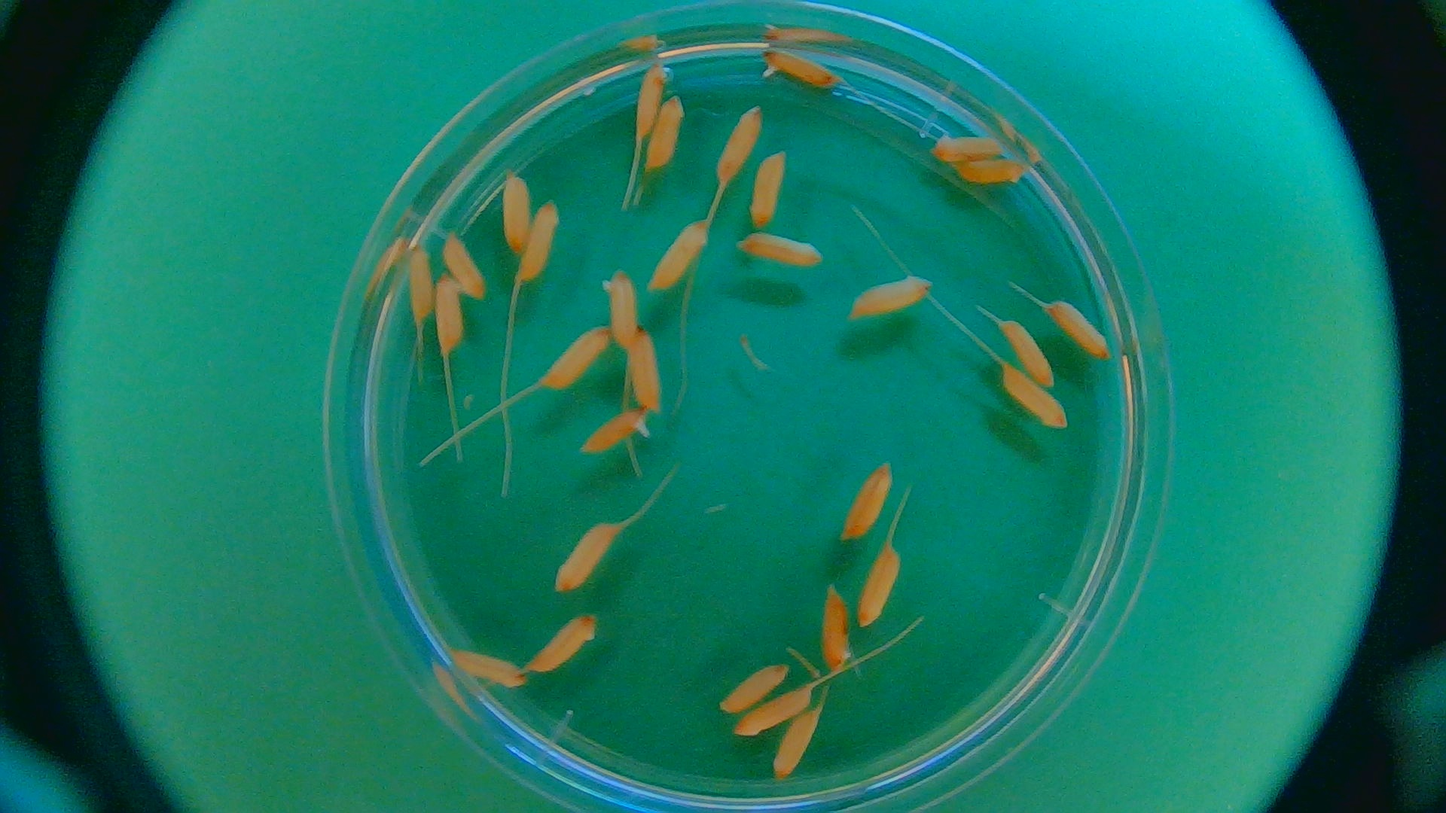no: (998, 359, 1070, 434), (552, 519, 623, 592), (731, 681, 819, 739), (539, 322, 610, 391), (768, 702, 826, 783), (520, 614, 597, 675), (1045, 295, 1113, 362), (651, 217, 712, 291), (756, 44, 842, 96), (997, 316, 1058, 389), (514, 196, 562, 288), (813, 586, 863, 674), (856, 540, 905, 626), (840, 462, 893, 541), (844, 274, 933, 320), (719, 659, 794, 713), (714, 102, 761, 185), (618, 327, 662, 410), (443, 227, 490, 303), (643, 93, 685, 177), (602, 268, 643, 353), (737, 230, 825, 269), (448, 644, 524, 689), (630, 59, 673, 138), (748, 147, 787, 226), (402, 239, 439, 319), (925, 131, 1013, 163), (435, 271, 467, 356), (499, 170, 527, 250), (953, 157, 1030, 184)
yes: (581, 404, 654, 453)
